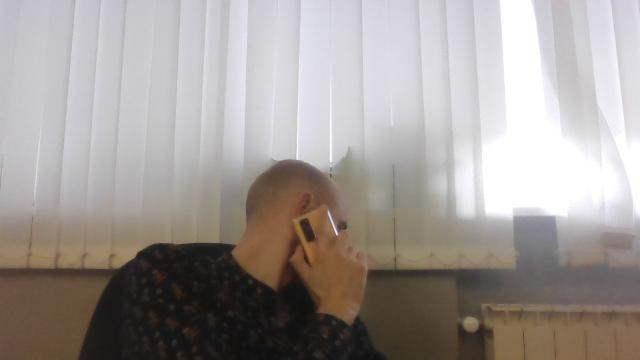Phone: (290, 202, 370, 308)
